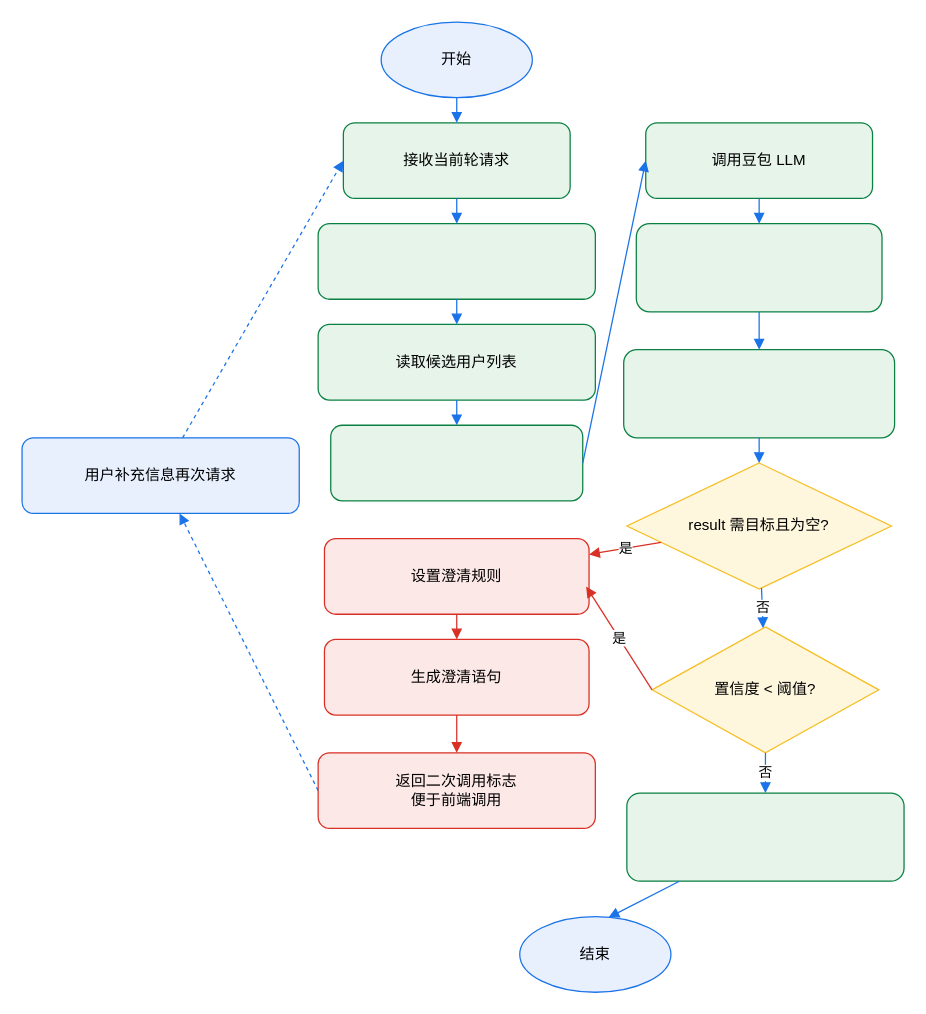
Image size: 926x1014. Some labels were removed from this diagram. The shapes that lost their labels are listed below. From the top down, each one's centre as x and y in pixels, then its label:
At [456,260]: "加载历史上下文".
At [758,267]: "匹配候选对象".
At [758,393]: "LLM + 相似度兜底".
At [456,462]: "近似匹配功能名称".
At [765,836]: "输出判别结果".
